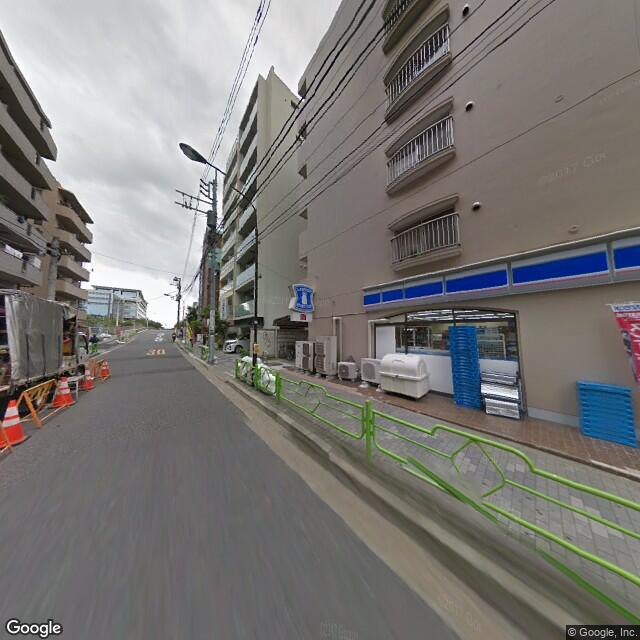lawson: (362, 229, 637, 310), (284, 282, 318, 313)
